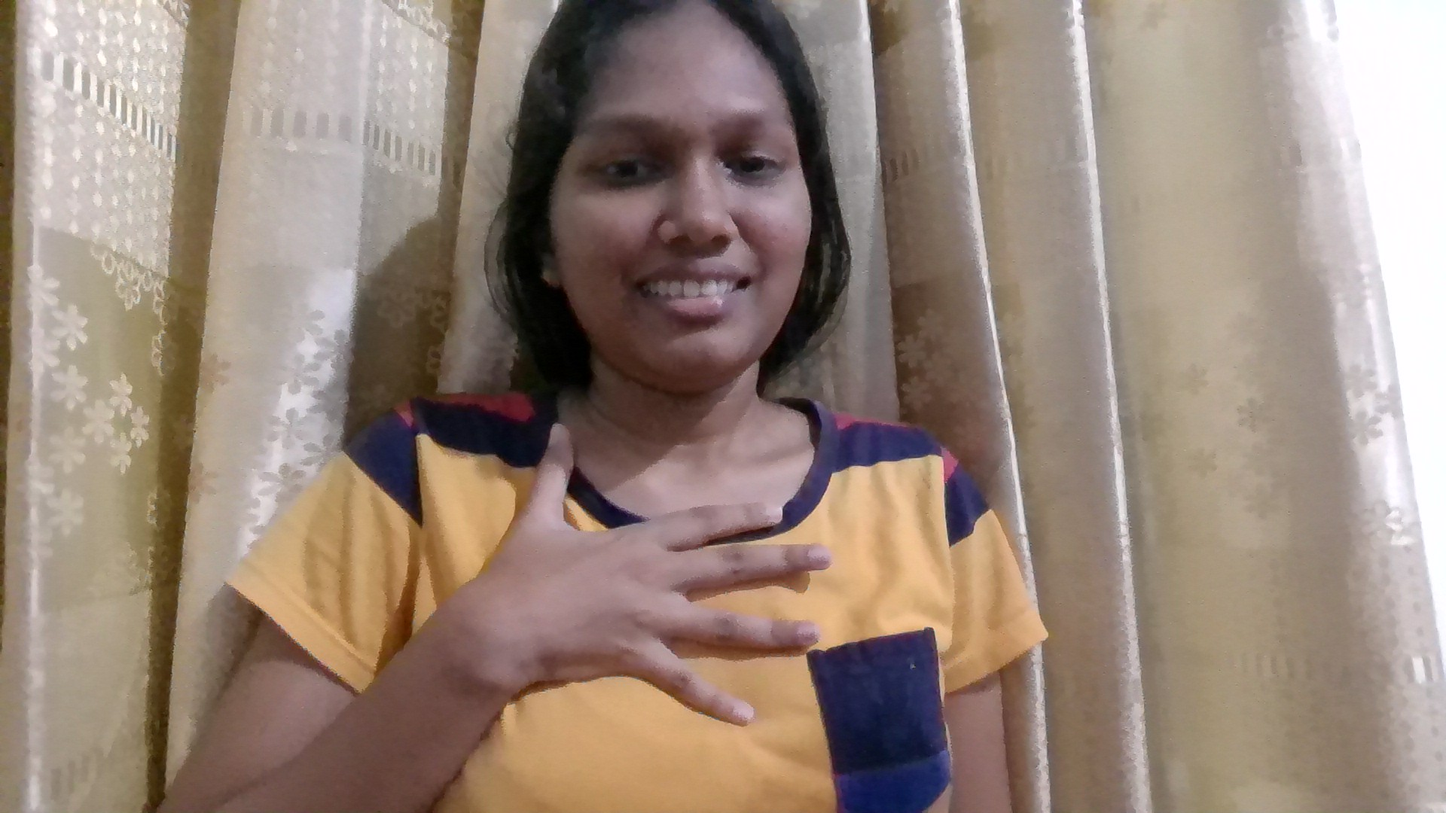Please: (473, 428, 863, 743)
